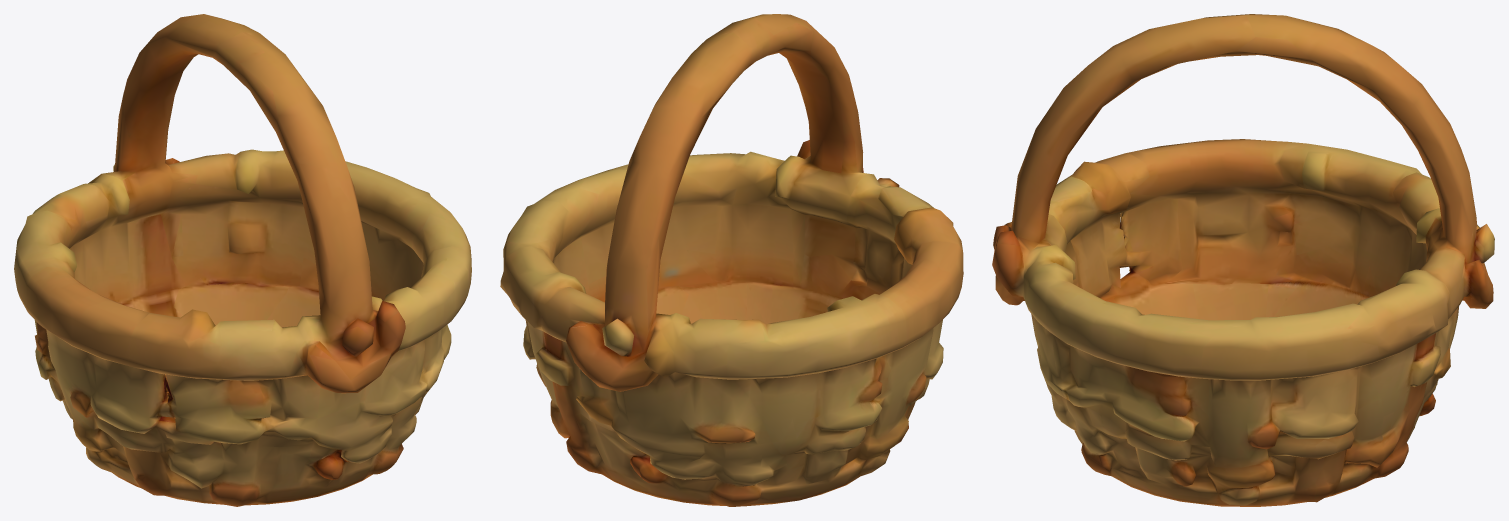
File: basket.glb
The picture shows the model from 3 angles, left to right: view 1: azimuth 30°, elevation 25°; view 2: azimuth 150°, elevation 25°; view 3: azimuth 270°, elevation 25°; orthographic projection. The views are drawn at different scales.
Parts seen in each view (by area): view 1: tripo_node_157e2830-1fdd-4ad0-83f9-b1730f46dc94; view 2: tripo_node_157e2830-1fdd-4ad0-83f9-b1730f46dc94; view 3: tripo_node_157e2830-1fdd-4ad0-83f9-b1730f46dc94.
Part boxes in pixels (x1,y1,x2,y2): tripo_node_157e2830-1fdd-4ad0-83f9-b1730f46dc94: (14, 14, 471, 506); tripo_node_157e2830-1fdd-4ad0-83f9-b1730f46dc94: (500, 14, 963, 506); tripo_node_157e2830-1fdd-4ad0-83f9-b1730f46dc94: (992, 14, 1494, 506).
Size of the model in its own units: 0.9479 by 0.9361 by 1.
1 material, 1 textured.
